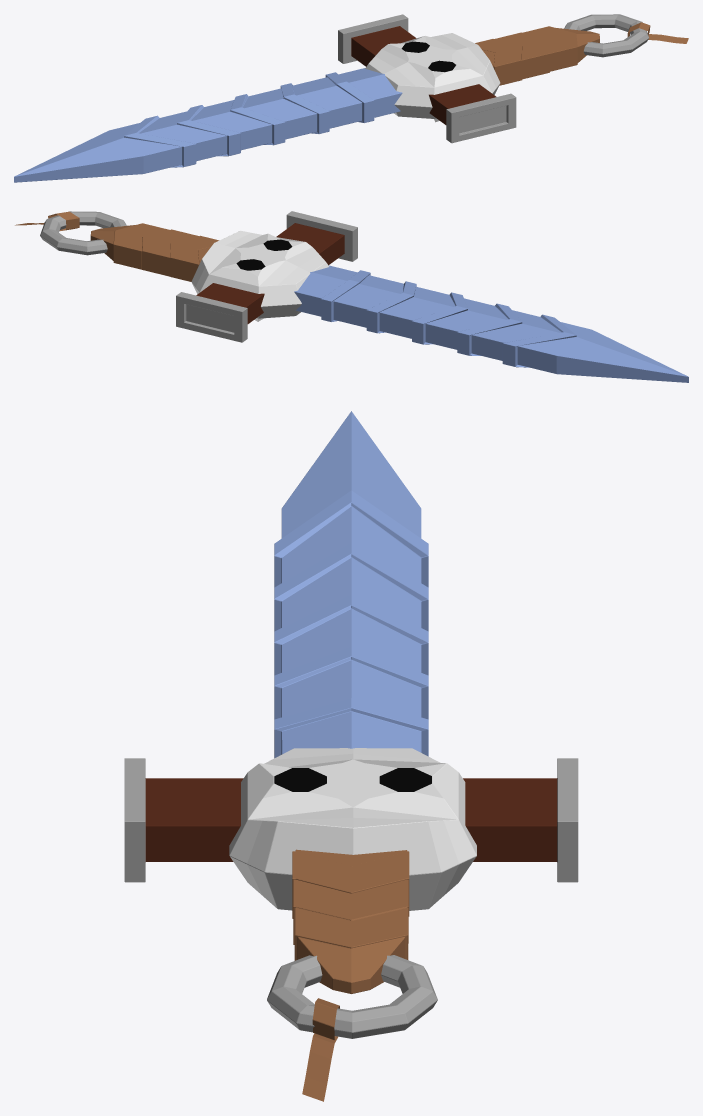
Rendered from Sword.fbx.
3 views of the same model, one above another, from view 1: azimuth 30°, elevation 25°; view 2: azimuth 150°, elevation 25°; view 3: azimuth 270°, elevation 25° (orthographic). The views are drawn at different scales.
Visible parts, largest first — view 1: Sword; view 2: Sword; view 3: Sword.
Boxes of the visible parts, <box> form: Sword: <box>14,14,688,182</box>; Sword: <box>15,211,688,382</box>; Sword: <box>124,411,578,1101</box>.
Bounding box in the file's own units: 106 × 6.71 × 31.23.
